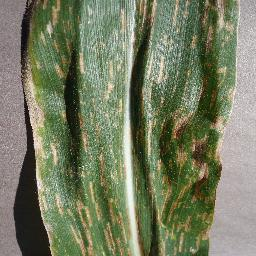Gray_Leaf_Spot: (18, 0, 242, 256)
